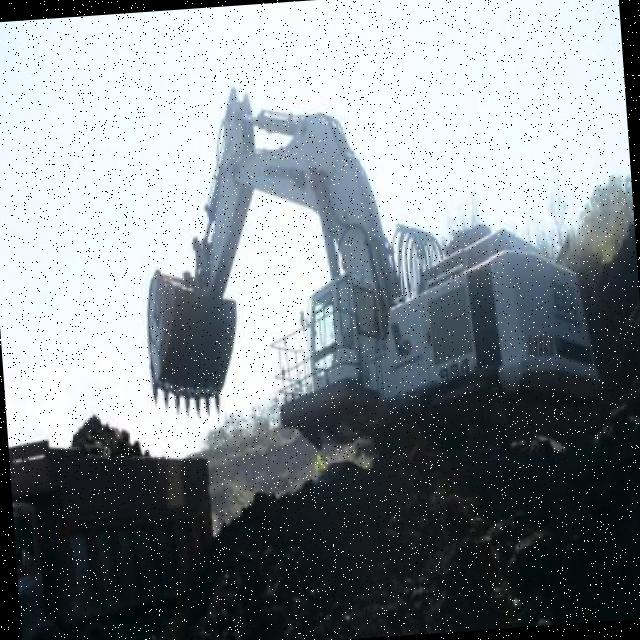Excavator: (110, 60, 603, 465)
